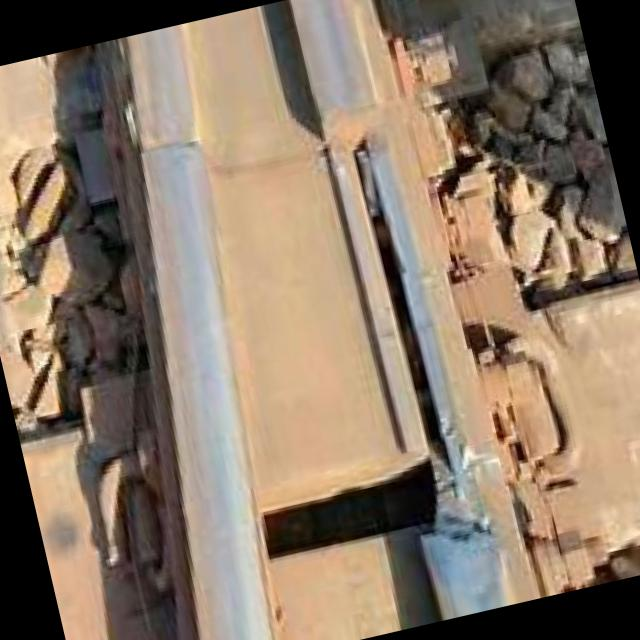defective: (235, 50, 596, 640)
